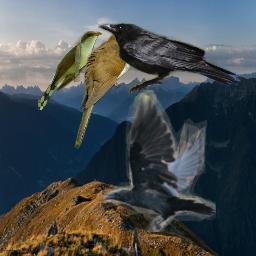Crow: (101, 90, 216, 232), (98, 22, 241, 95)
Cuckoo: (74, 31, 138, 149), (38, 31, 102, 110)
